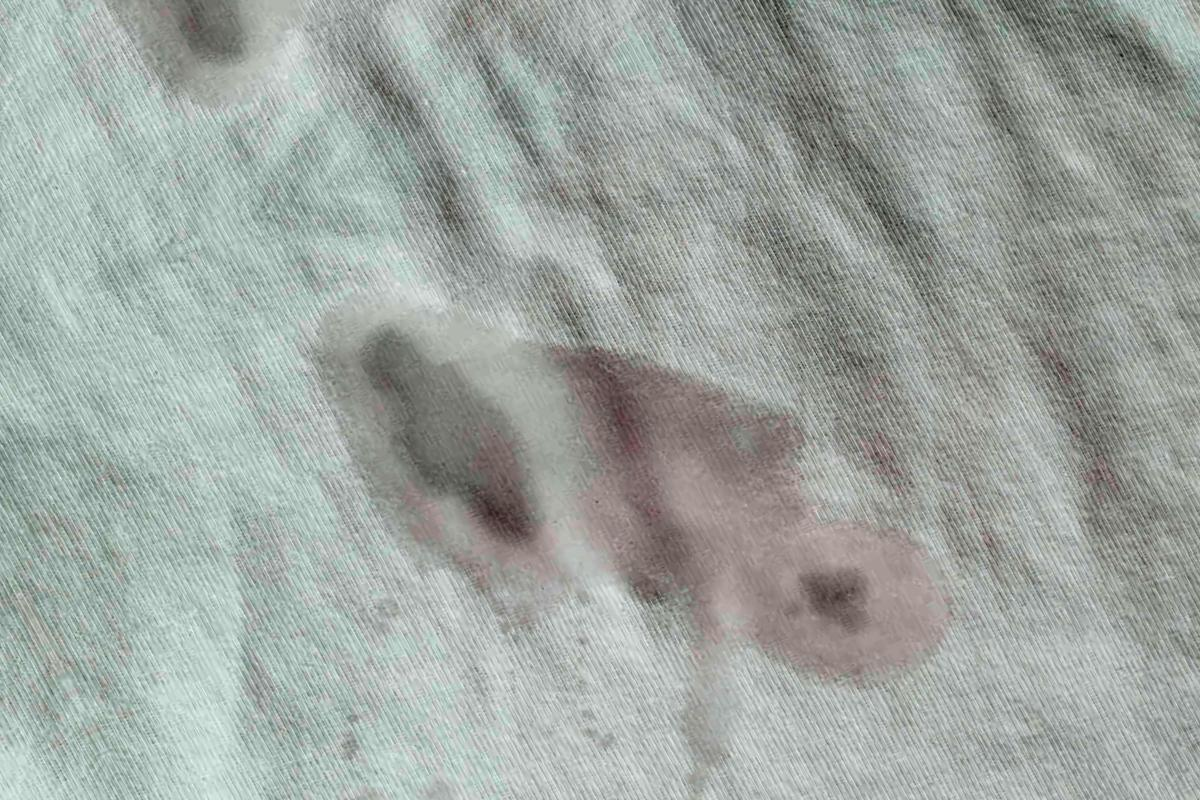stain: (305, 279, 972, 709), (86, 0, 320, 122)
